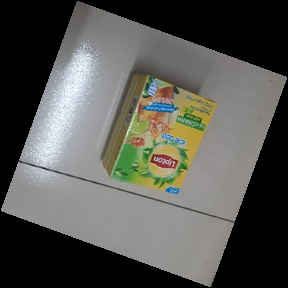LipTon: (99, 69, 217, 199)
